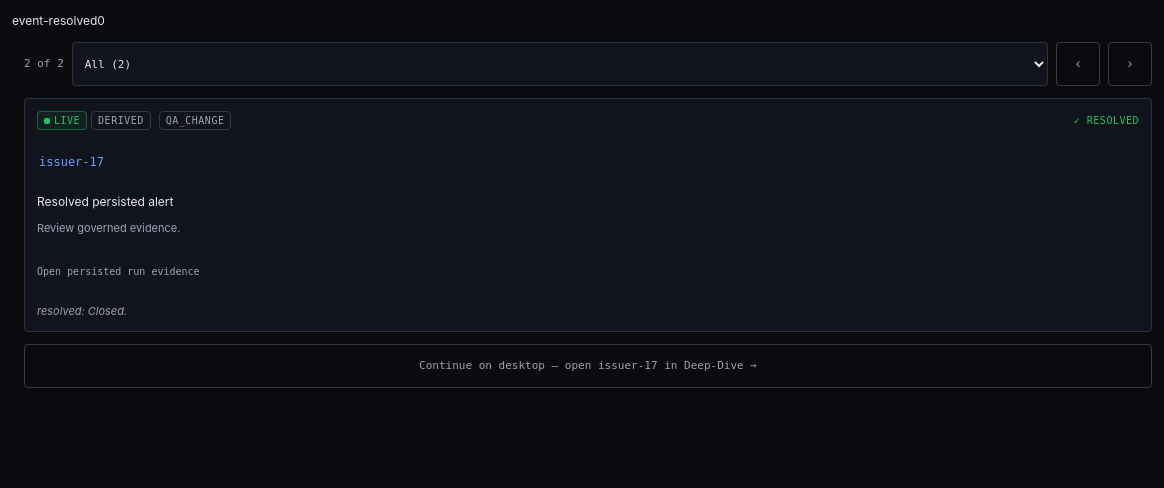
persisted Monitor controller › hydrates a valid deep-linked active event while keeping resolved phone navigation out of batch selection
Expected: the heading "Resolved persisted alert" is shown, x1=37 y1=194 x2=174 y2=209
Expected: the text with test id "deep-active" reads "event-resolved", x1=12 y1=13 x2=97 y2=28
Click the button named "Previous alert": click(1078, 64) x1=1056 y1=42 x2=1100 y2=86
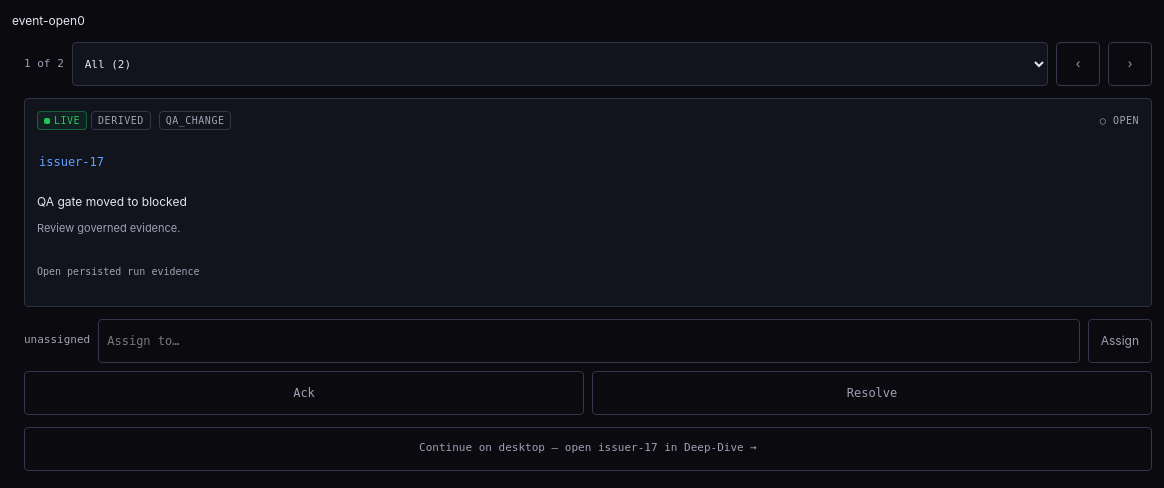
Expected: the text with test id "deep-selected" reads "0", x1=77 y1=13 x2=85 y2=28
Now the heading "QA gate moved to blocked" is shown, box x1=37 y1=194 x2=187 y2=209
